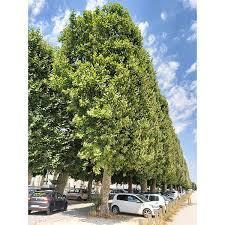tree: (54, 6, 157, 217)
